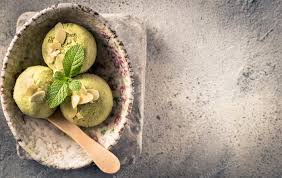ice-cream: (41, 22, 97, 74), (61, 75, 113, 127), (13, 66, 61, 119)
